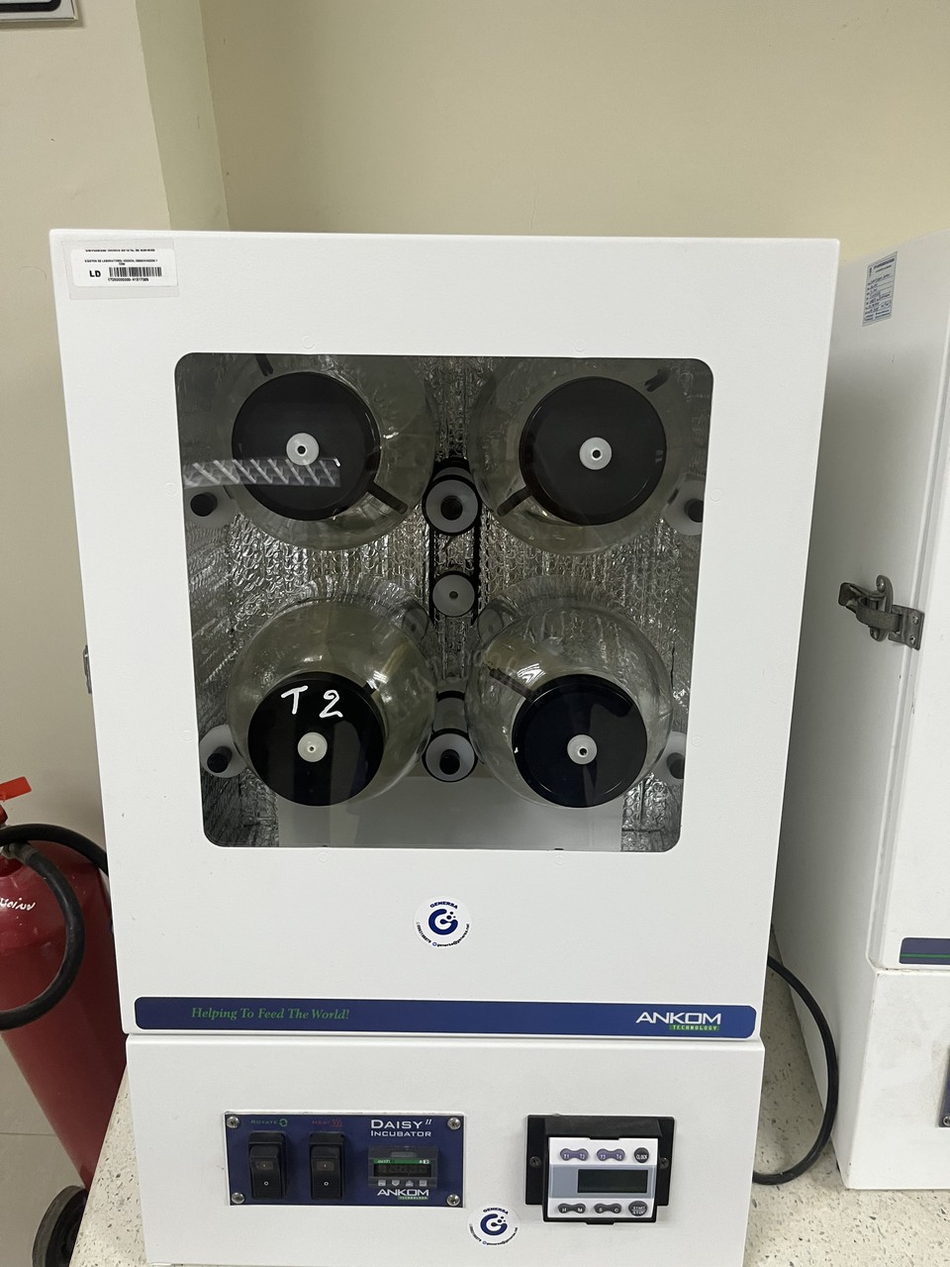ankom_daisy_incubator: (25, 179, 857, 1267)
